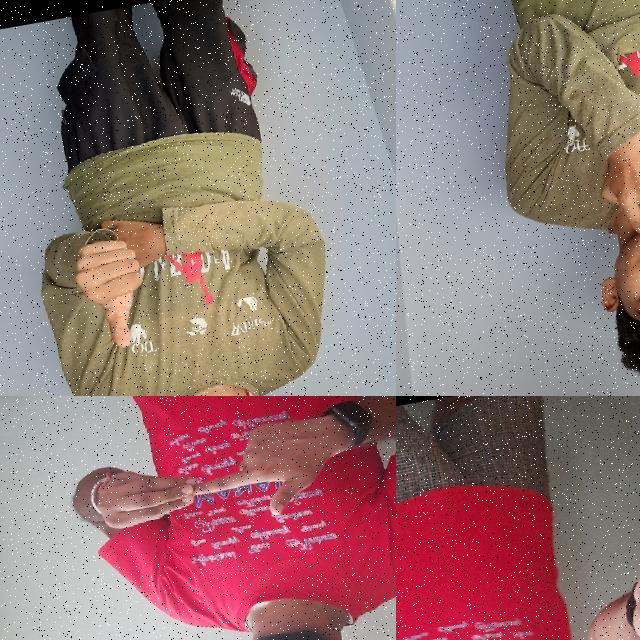Chin Flick: (568, 134, 640, 388)
Five Fathers: (74, 396, 352, 556)
Thumbs Up: (59, 227, 162, 361)
